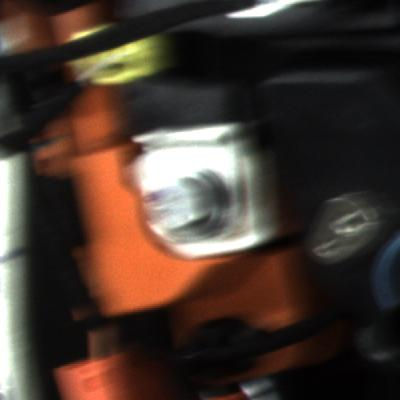nut_b: (146, 165, 227, 248)
